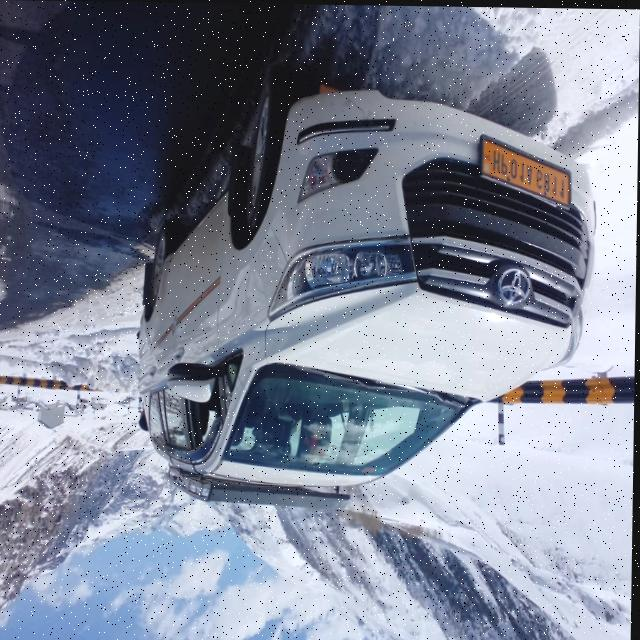plate: (476, 129, 577, 214)
